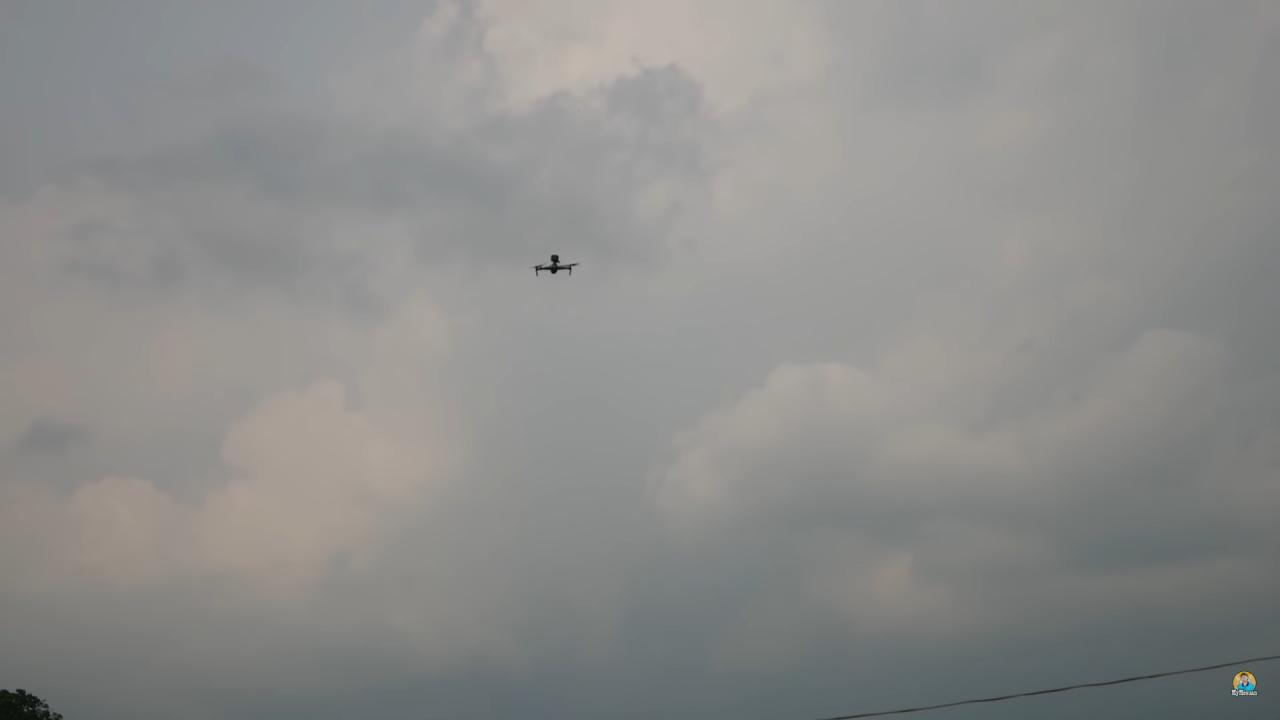Drone: (521, 248, 584, 284)
